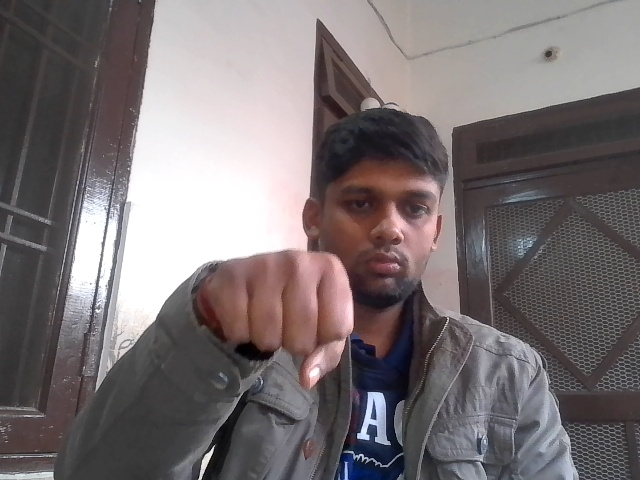Yes: (196, 233, 362, 403)
